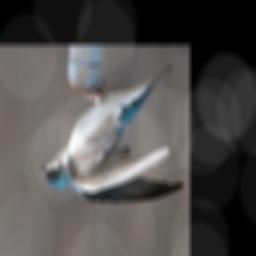Swallow: (38, 62, 186, 207)
